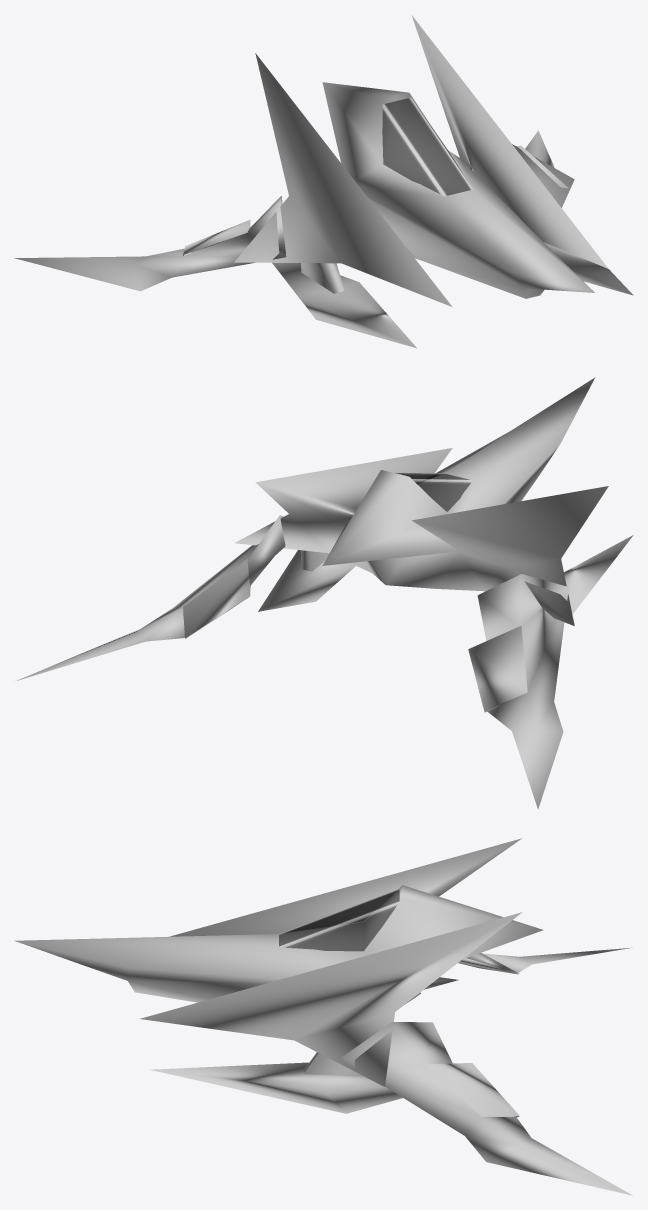
File: arwingNew55.obj
The picture shows the model from 3 angles, top to bottom: view 1: azimuth 30°, elevation 25°; view 2: azimuth 150°, elevation 25°; view 3: azimuth 270°, elevation 25°; orthographic projection. The views are drawn at different scales.
Parts seen in each view (by area): view 1: Arwing.002; view 2: Arwing.002; view 3: Arwing.002.
Boxes of the visible parts, x1,y1,x2,y2 form: Arwing.002: (14,15,633,348); Arwing.002: (16,377,633,809); Arwing.002: (14,838,632,1195).
Bounding box in the file's own units: 5.82 × 2.15 × 6.14.
